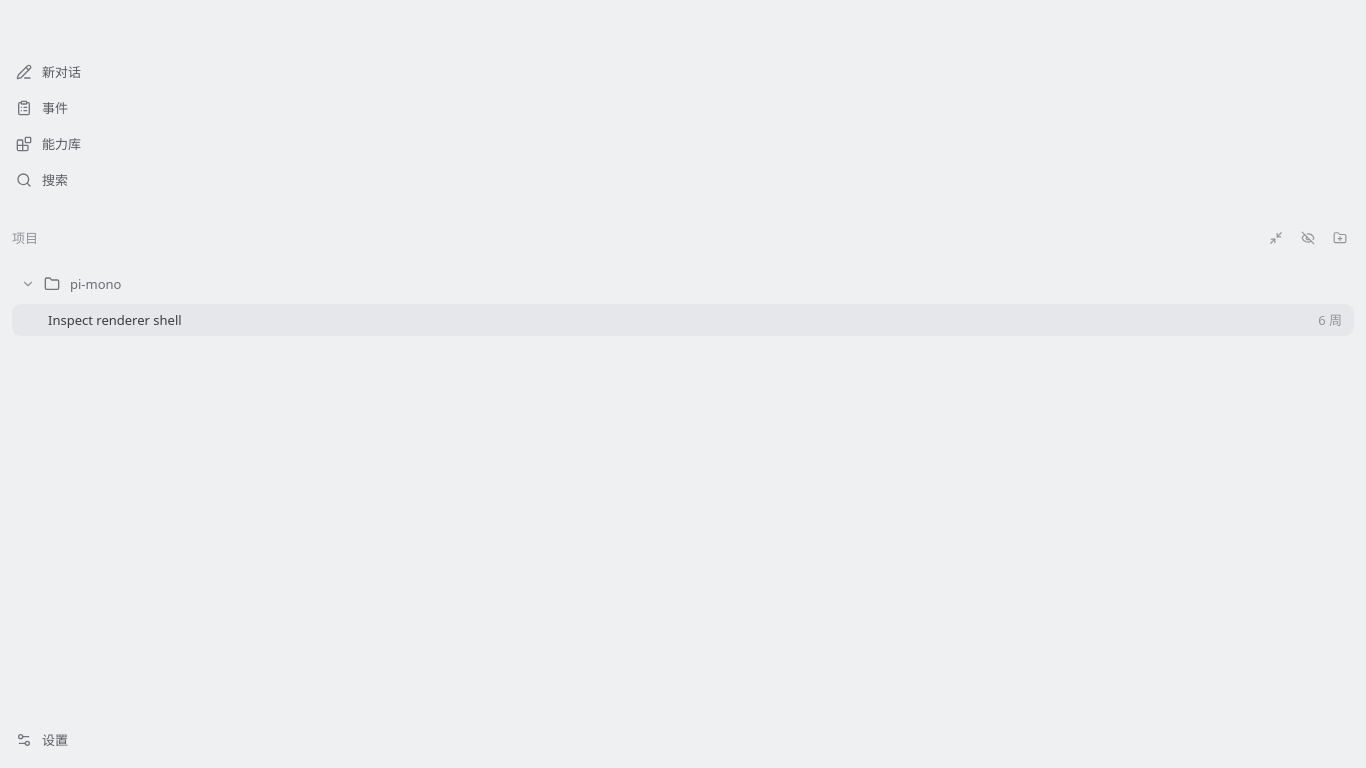
Test: SessionList UI › toggles a project open and closed from the project collapse button
Expected: the text "Inspect renderer shell" is shown, [48,311,182,329]
Click the button named "折叠项目 pi-mono" at (28, 284), box [16,272,40,296]
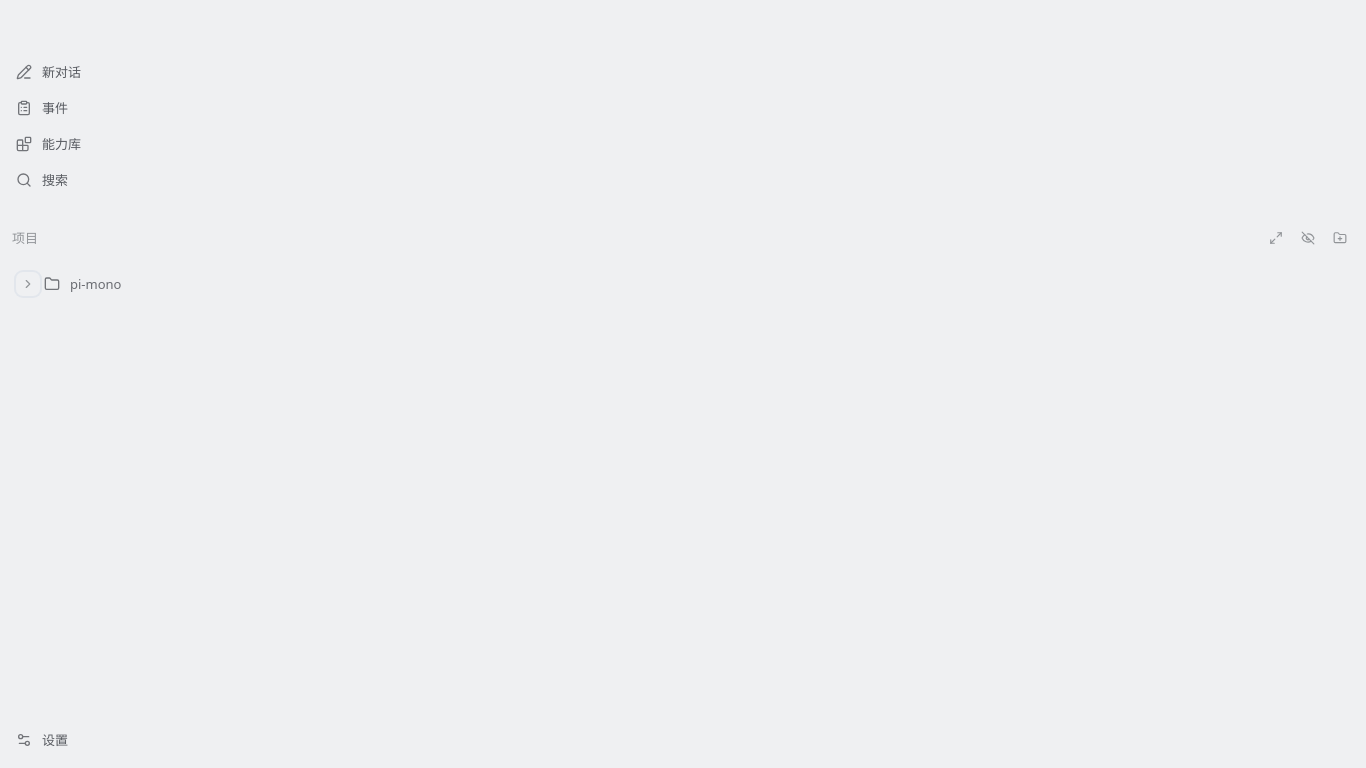
Expected: the button "Inspect renderer shell" is gone
Click the button named "展开项目 pi-mono" at (28, 284), box [16,272,40,296]
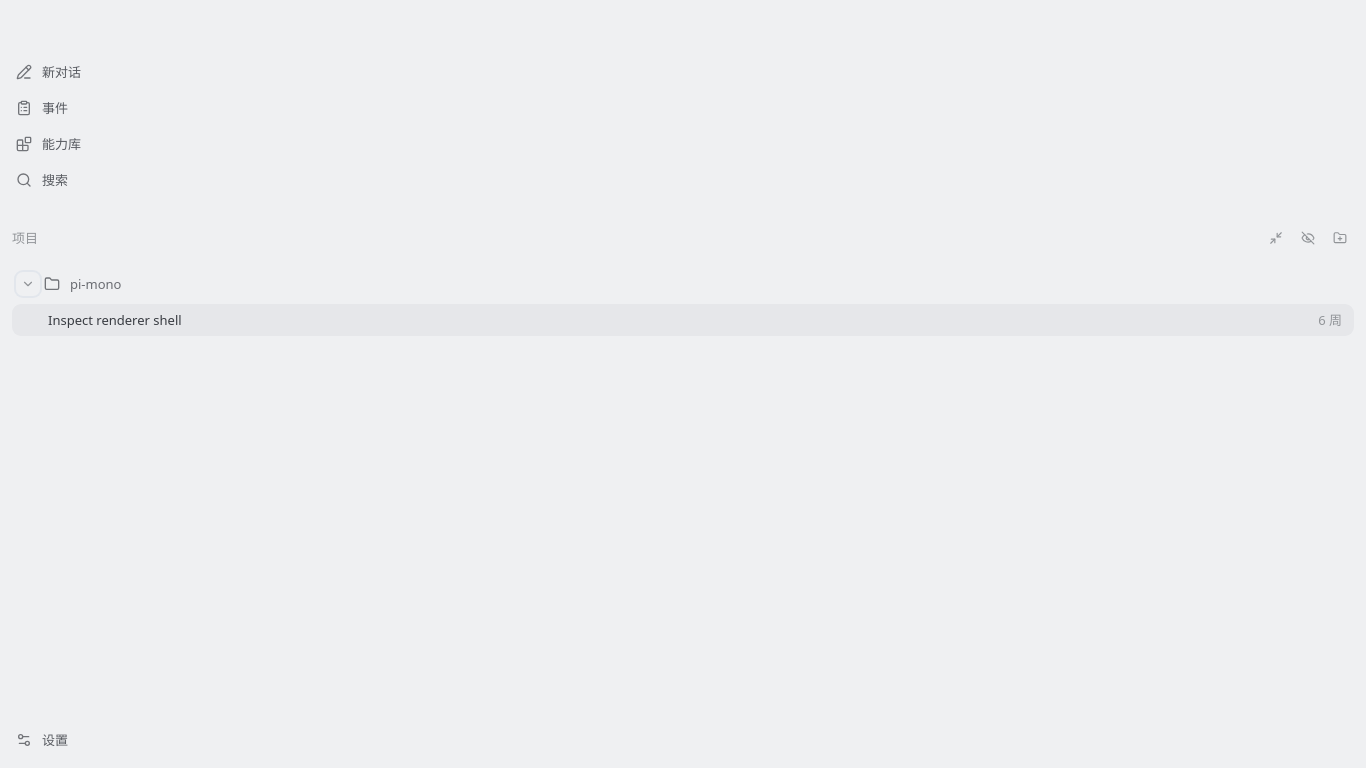
Expected: the text "Inspect renderer shell" is shown, [48,311,182,329]
